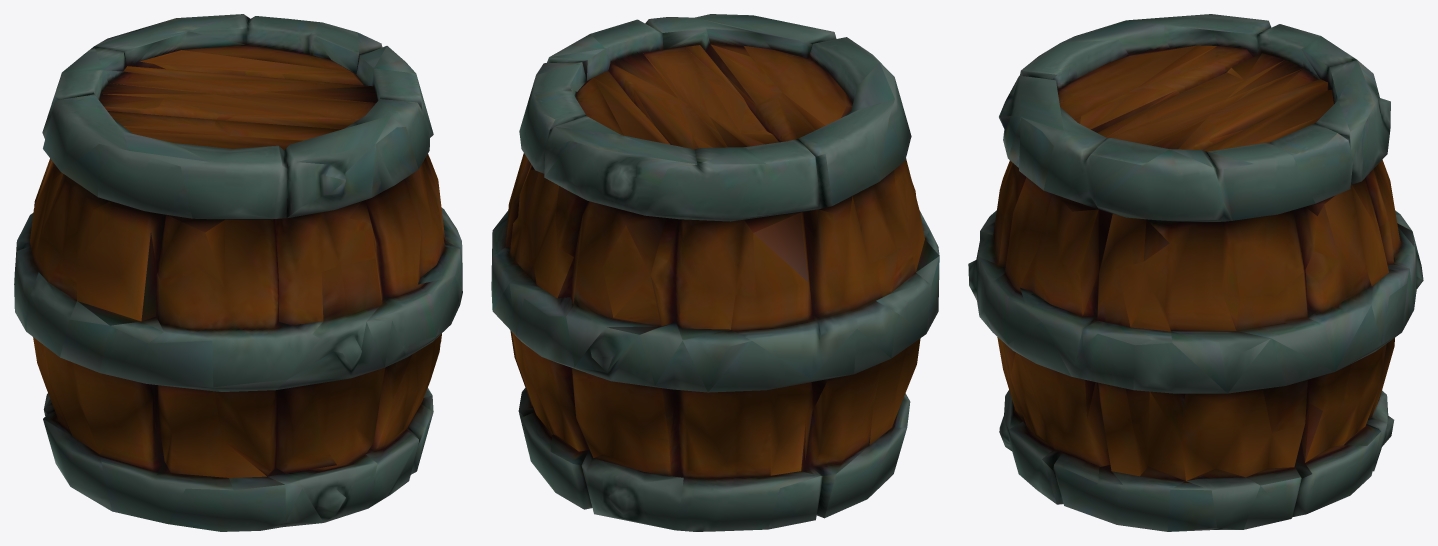
File: barrel.glb
The picture shows the model from 3 angles, left to right: view 1: azimuth 30°, elevation 25°; view 2: azimuth 150°, elevation 25°; view 3: azimuth 270°, elevation 25°; orthographic projection.
Parts seen in each view (by area): view 1: tripo_node_d6920253-ecab-44ca-bc02-c0eca5bad003; view 2: tripo_node_d6920253-ecab-44ca-bc02-c0eca5bad003; view 3: tripo_node_d6920253-ecab-44ca-bc02-c0eca5bad003.
Part boxes in pixels (x1,y1,x2,y2): tripo_node_d6920253-ecab-44ca-bc02-c0eca5bad003: (14,14,462,531); tripo_node_d6920253-ecab-44ca-bc02-c0eca5bad003: (491,14,939,531); tripo_node_d6920253-ecab-44ca-bc02-c0eca5bad003: (968,14,1423,531).
Size of the model in its own units: 0.9673 by 0.8763 by 0.9789.
Materials: 1 (1 with a texture image).
